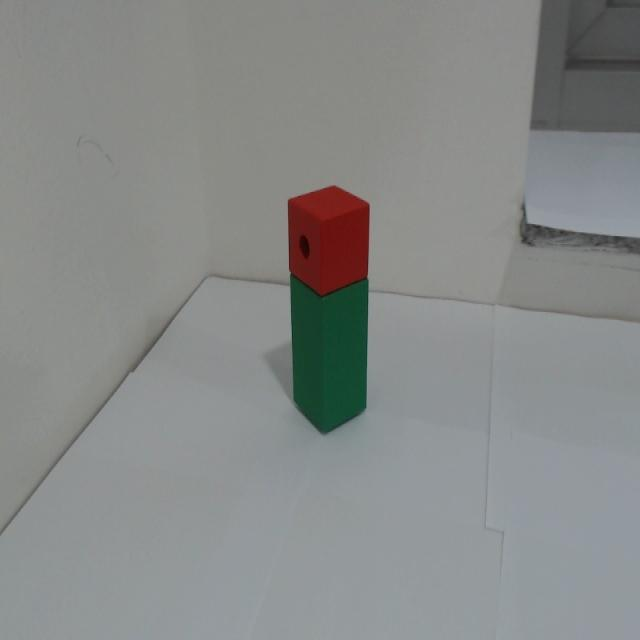cube: (270, 160, 393, 297)
